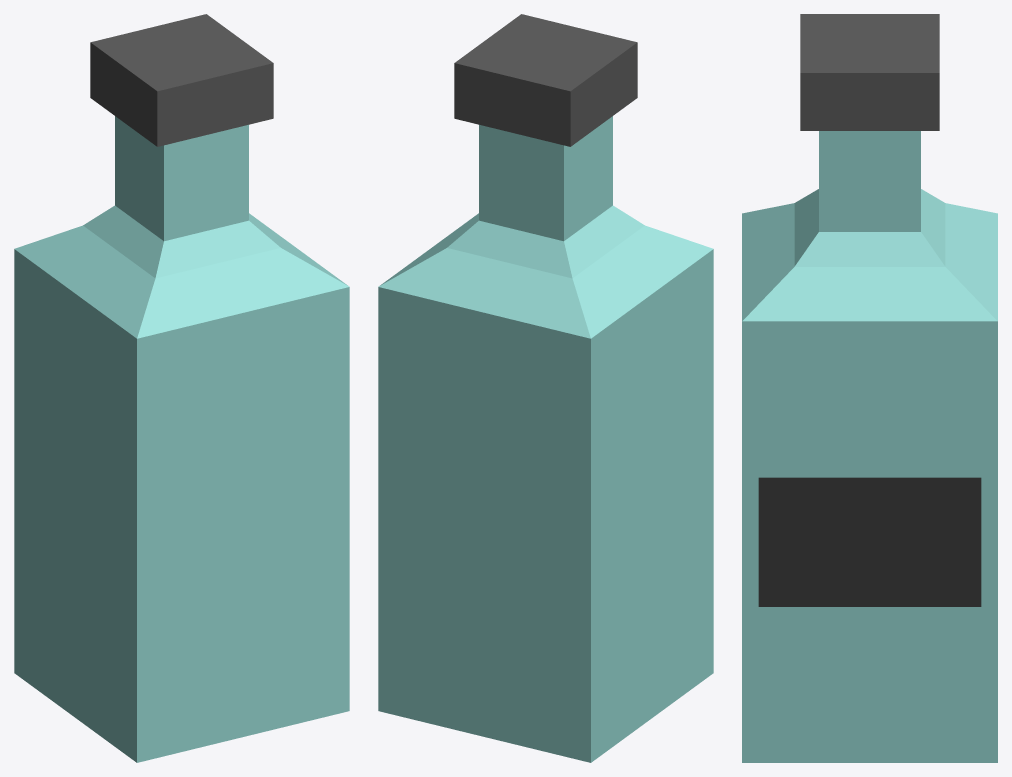
File: Bottle3.fbx
3 renders of one model, left to right at view 1: azimuth 30°, elevation 25°; view 2: azimuth 150°, elevation 25°; view 3: azimuth 270°, elevation 25°, orthographic. The views are drawn at different scales.
Parts seen in each view (by area): view 1: Bottle3; view 2: Bottle3; view 3: Bottle3.
Part boxes in pixels (bbox=[...]): Bottle3: bbox=[14, 14, 349, 762]; Bottle3: bbox=[378, 14, 713, 762]; Bottle3: bbox=[742, 14, 997, 762].
Size of the model in its own units: 10.66 by 30.63 by 10.66.
